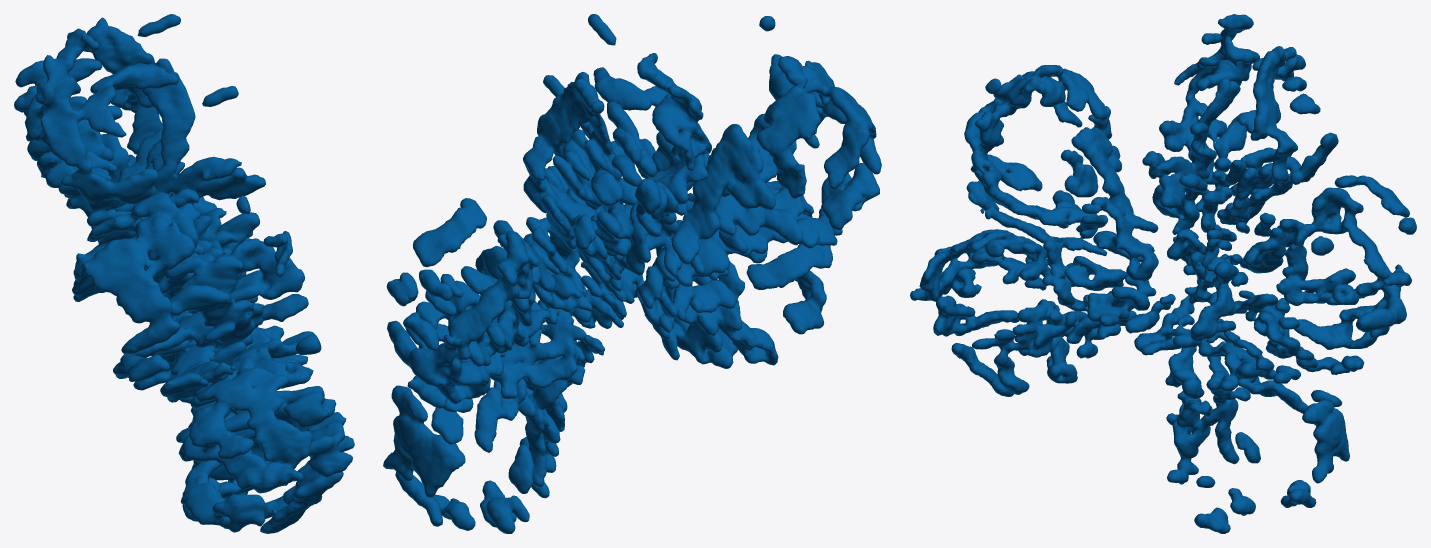
File: 300_24HR_donuts.glb
3 renders of one model, left to right at view 1: azimuth 30°, elevation 25°; view 2: azimuth 150°, elevation 25°; view 3: azimuth 270°, elevation 25°, orthographic. The views are drawn at different scales.
Visible parts, largest first — view 1: 24HR_300cis_timelapse_z; view 2: 24HR_300cis_timelapse_z; view 3: 24HR_300cis_timelapse_z.
Part boxes in pixels (box(x1,y1,x2,y2)): 24HR_300cis_timelapse_z: box(14, 14, 354, 533); 24HR_300cis_timelapse_z: box(383, 14, 881, 533); 24HR_300cis_timelapse_z: box(910, 14, 1416, 533).
Bounding box in the file's own units: 15.29 × 23.09 × 23.01.
